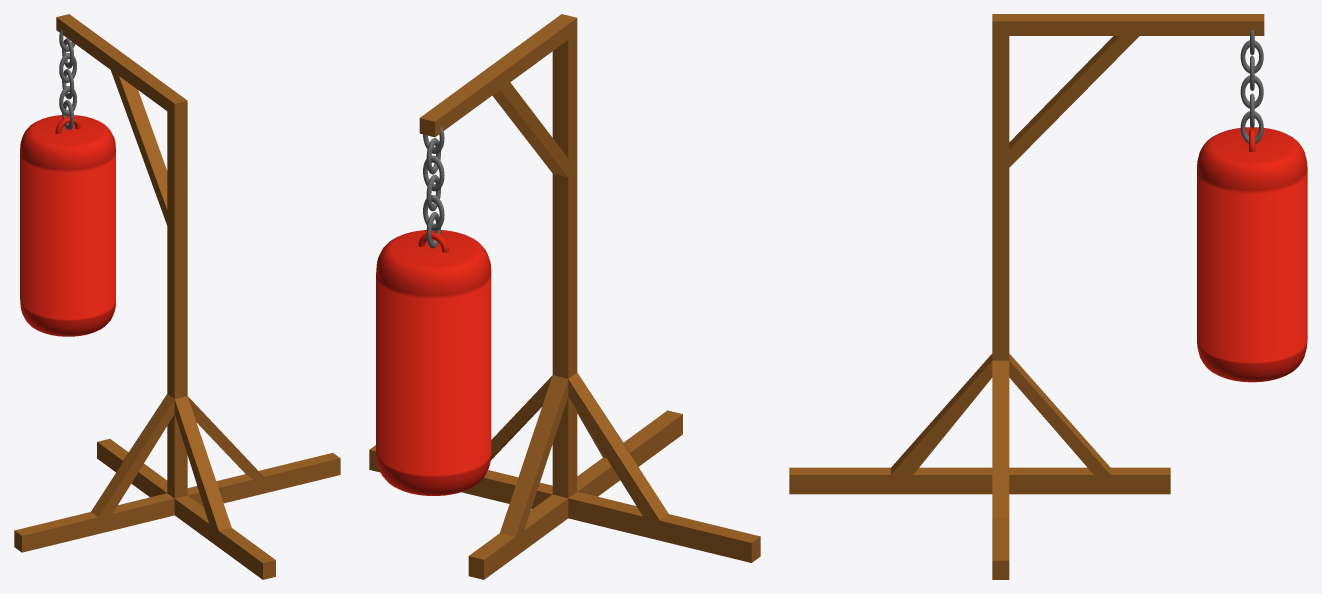
The model's file is Grusha+stolb bez anim.fbx.
3 views of the same model, side by side, from view 1: azimuth 30°, elevation 25°; view 2: azimuth 150°, elevation 25°; view 3: azimuth 270°, elevation 25° (orthographic). The views are drawn at different scales.
Visible parts, largest first — view 1: Halterung, Boxsack, Kette1, Kette4; view 2: Halterung, Boxsack, Kette1, Kette4; view 3: Halterung, Boxsack, Kette1.
Part boxes in pixels (x1,y1,x2,y2): Halterung: (14,14,340,579); Boxsack: (20,100,115,336); Kette1: (59,29,76,82); Kette4: (59,69,76,115); Halterung: (369,14,760,579); Boxsack: (376,212,491,495); Kette1: (423,126,444,191); Kette4: (423,174,444,230); Halterung: (789,14,1264,579); Boxsack: (1197,111,1307,382); Kette1: (1240,30,1263,90).
Size of the model in its own units: 186 by 230 by 228.
